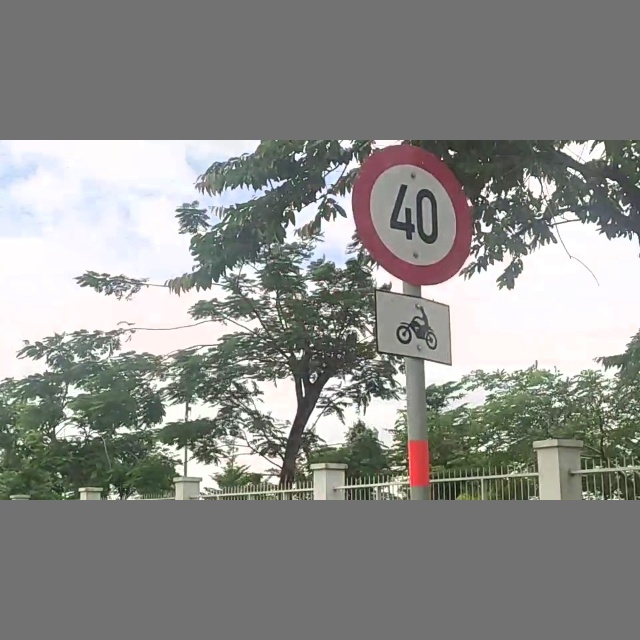P.127*40: (350, 143, 481, 288)
S.505a*Xe may: (369, 287, 461, 371)
